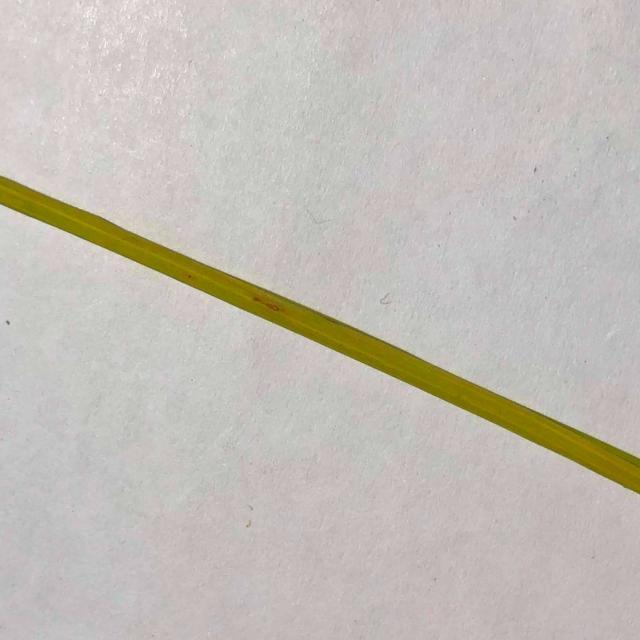brownspots: (238, 288, 296, 322), (177, 269, 199, 287)
